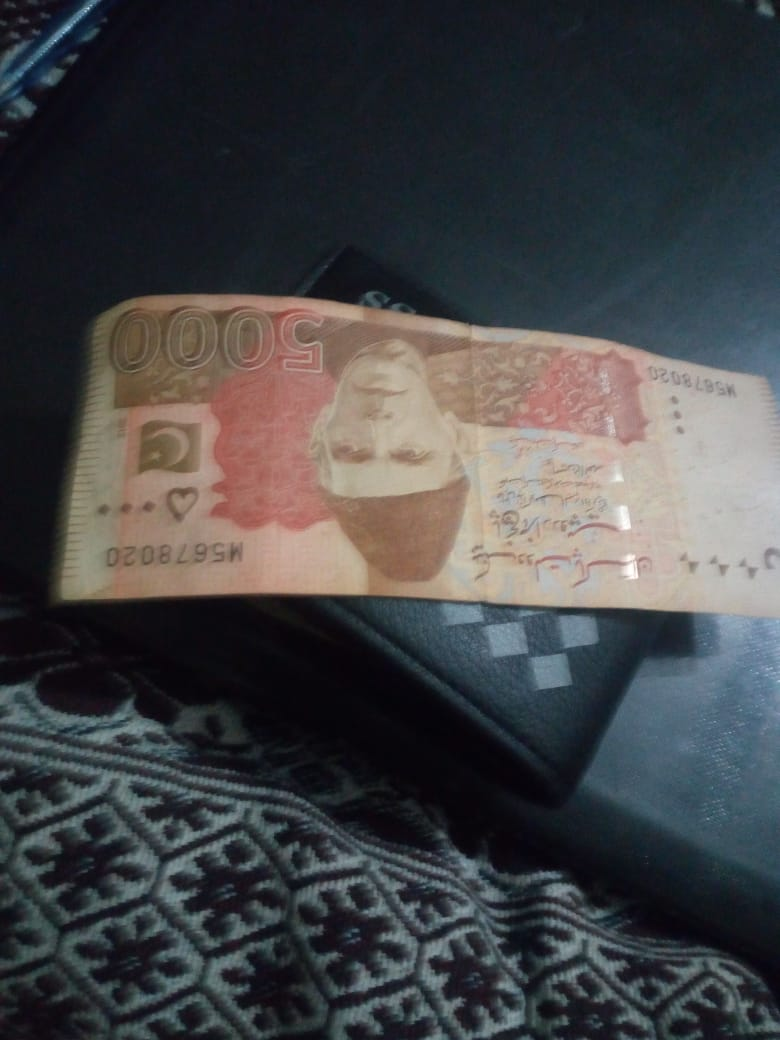5000 rupee: (38, 285, 775, 655)
